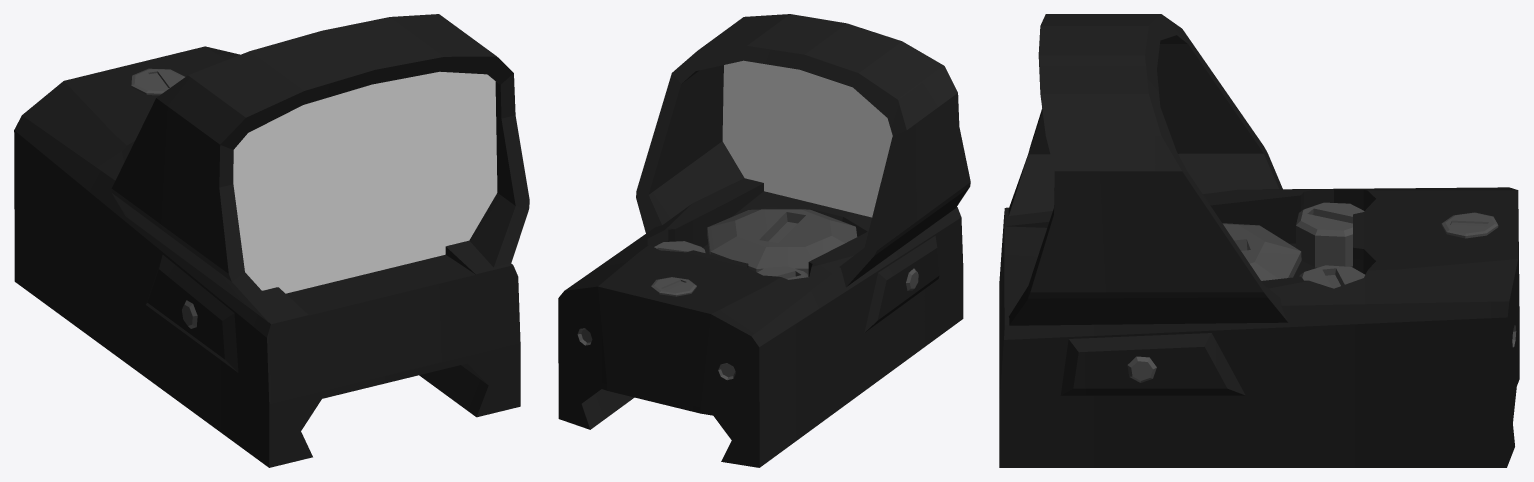
The model's file is Red Dot_3.fbx.
3 views of the same model, side by side, from view 1: azimuth 30°, elevation 25°; view 2: azimuth 150°, elevation 25°; view 3: azimuth 270°, elevation 25° (orthographic). The views are drawn at different scales.
Visible parts, largest first — view 1: Red Dot_3, Red Dot_3 Glass; view 2: Red Dot_3, Red Dot_3 Glass; view 3: Red Dot_3.
Part boxes in pixels (left/top/right/bottom): Red Dot_3: left=14, top=14, right=529, bottom=467; Red Dot_3 Glass: left=233, top=71, right=497, bottom=293; Red Dot_3: left=558, top=14, right=970, bottom=467; Red Dot_3 Glass: left=722, top=60, right=892, bottom=217; Red Dot_3: left=999, top=14, right=1519, bottom=467.
Bounding box in the file's own units: 44.19 × 49.52 × 66.38.
